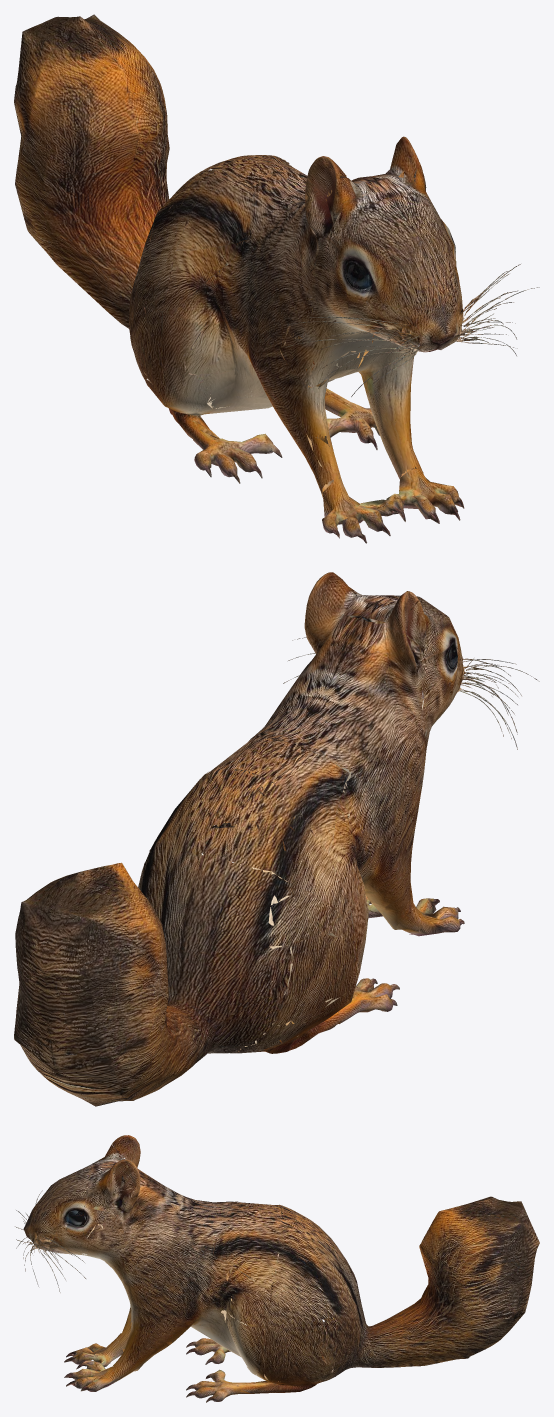
File: squirrel.glb
The picture shows the model from 3 angles, top to bottom: view 1: azimuth 30°, elevation 25°; view 2: azimuth 150°, elevation 25°; view 3: azimuth 270°, elevation 25°; orthographic projection. The views are drawn at different scales.
Parts seen in each view (by area): view 1: Object_6, Object_5; view 2: Object_6, Object_5; view 3: Object_6, Object_5.
Part boxes in pixels (x1,y1,x2,y2): Object_6: (14, 14, 423, 504); Object_5: (129, 155, 539, 543); Object_6: (14, 572, 451, 1106); Object_5: (138, 590, 539, 1053); Object_6: (81, 1135, 539, 1402); Object_5: (15, 1144, 336, 1393).
Size of the model in its own units: 0.6133 by 0.905 by 1.9.
Materials: 1 (1 with a texture image).
